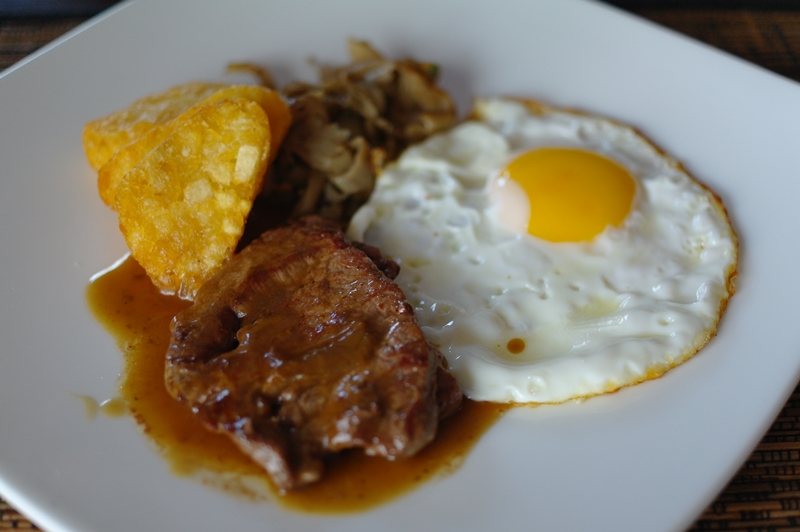fried egg: (396, 117, 693, 396)
